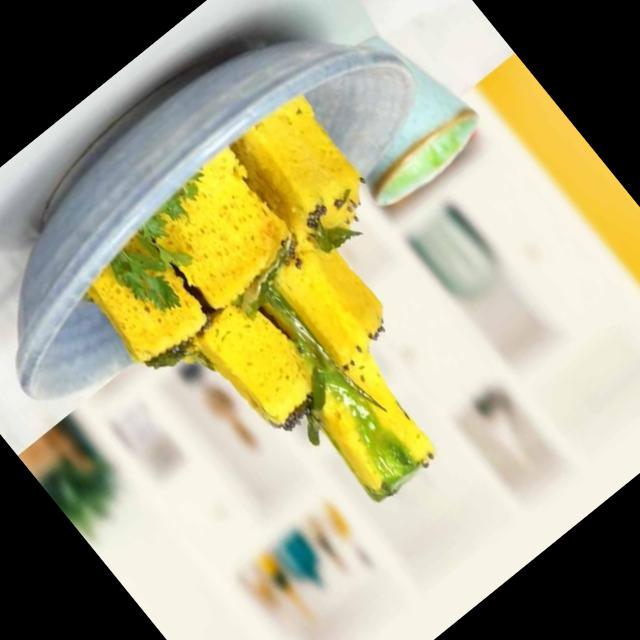dhokla: (78, 105, 524, 562)
